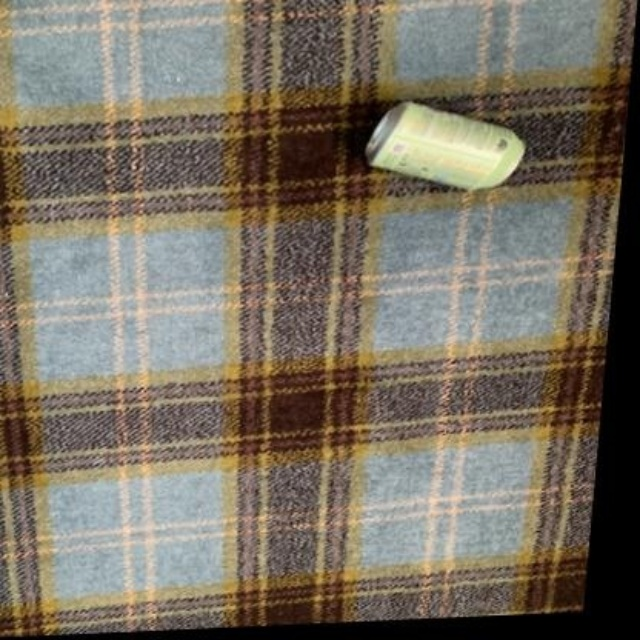trash: (365, 102, 523, 188)
